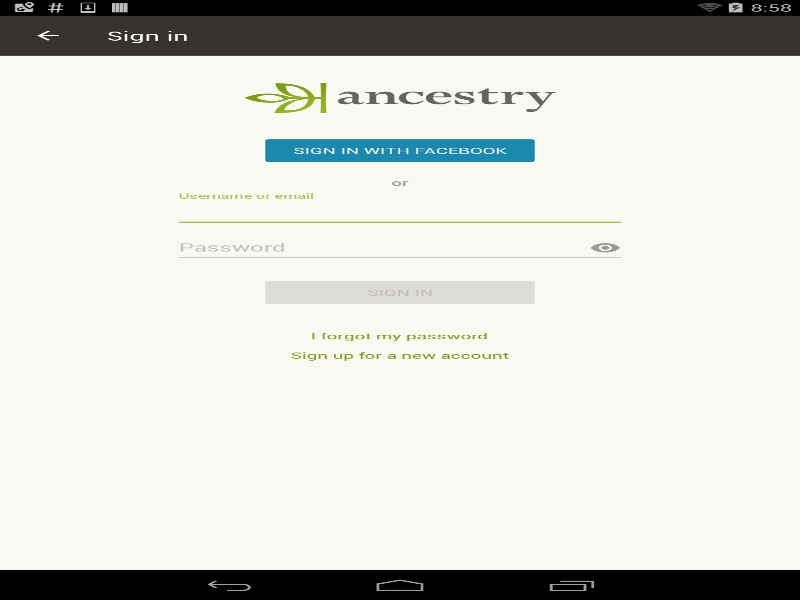Button: (260, 135, 540, 165), (260, 277, 540, 307), (10, 15, 85, 55), (584, 234, 626, 262)
Input: (173, 198, 626, 227), (173, 234, 626, 262)
